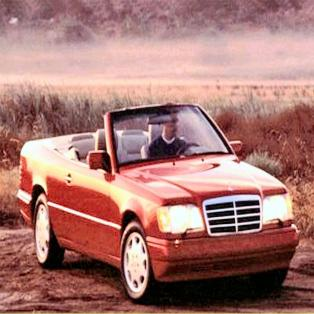Auto: (14, 97, 304, 307)
